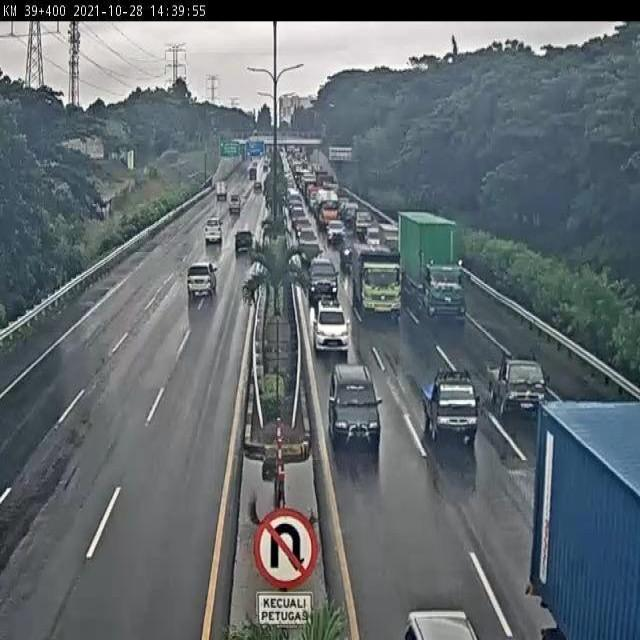big truck: (399, 207, 469, 321), (350, 240, 398, 313)
car: (422, 368, 479, 443), (329, 364, 380, 444), (486, 348, 545, 413), (312, 300, 350, 353), (186, 262, 217, 298), (307, 255, 336, 293), (299, 236, 323, 264), (377, 220, 398, 251), (202, 219, 224, 248), (338, 232, 357, 263), (350, 208, 372, 233), (232, 229, 253, 255), (326, 216, 345, 241), (229, 194, 244, 218), (362, 224, 381, 241)
